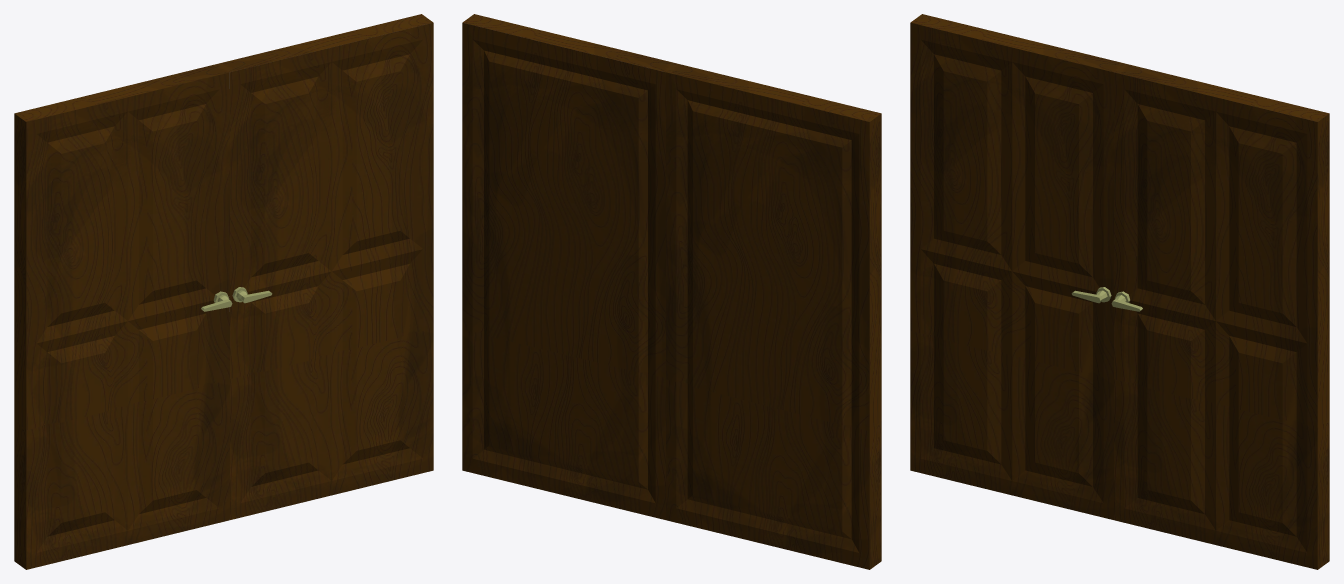
The model's file is DoubleDoor.fbx.
3 renders of one model, left to right at view 1: azimuth 30°, elevation 25°; view 2: azimuth 150°, elevation 25°; view 3: azimuth 330°, elevation 25°, orthographic.
Parts seen in each view (by area): view 1: DoubleDoor; view 2: DoubleDoor; view 3: DoubleDoor.
Boxes of the visible parts, box(x1,y1,x2,y2) form: DoubleDoor: box(14, 14, 433, 569); DoubleDoor: box(462, 14, 881, 569); DoubleDoor: box(910, 14, 1329, 569).
Size of the model in its own units: 171 by 180 by 14.72.
